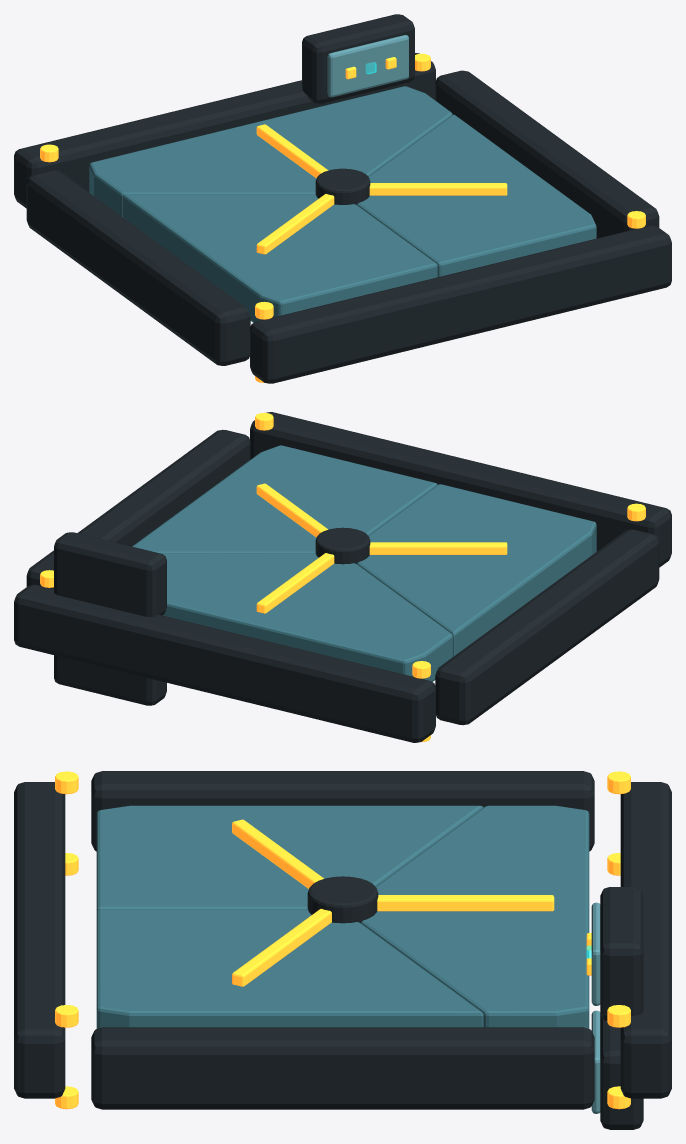
The model's file is 07_square_sliding_tripartite.glb.
3 renders of one model, top to bottom at view 1: azimuth 30°, elevation 25°; view 2: azimuth 150°, elevation 25°; view 3: azimuth 270°, elevation 25°, orthographic. The views are drawn at different scales.
Parts seen in each view (by area): view 1: Frame_North.003, Tripartite_rectangle_Panel_3, Tripartite_rectangle_Panel_2, Tripartite_rectangle_Panel_1, Frame_West.003, Frame_East.003, Frame_South.003, Control_Top_Housing, Control_Top_Face, Tripartite_Top_Accent_Rib_1, Tripartite_Central_Lock, Tripartite_Top_Accent_Rib_3 (+1 smaller); view 2: Frame_South.003, Tripartite_rectangle_Panel_2, Tripartite_rectangle_Panel_3, Tripartite_rectangle_Panel_1, Frame_West.003, Frame_North.003, Frame_East.003, Control_Top_Housing, Control_Bottom_Housing, Tripartite_Top_Accent_Rib_3, Tripartite_Central_Lock, Tripartite_Top_Accent_Rib_2 (+1 smaller); view 3: Frame_East.003, Tripartite_rectangle_Panel_1, Tripartite_rectangle_Panel_2, Tripartite_rectangle_Panel_3, Frame_West.003, Frame_North.003, Frame_South.003, Control_Top_Housing, Tripartite_Top_Accent_Rib_2, Tripartite_Central_Lock, Control_Bottom_Housing, Tripartite_Top_Accent_Rib_1 (+3 smaller).
Part boxes in pixels (left/top/right/bottom): Frame_North.003: left=250, top=225, right=671, bottom=383; Tripartite_rectangle_Panel_3: left=122, top=194, right=437, bottom=322; Tripartite_rectangle_Panel_2: left=89, top=86, right=452, bottom=216; Tripartite_rectangle_Panel_1: left=357, top=114, right=596, bottom=276; Frame_West.003: left=26, top=170, right=250, bottom=365; Frame_East.003: left=435, top=70, right=659, bottom=238; Frame_South.003: left=14, top=53, right=435, bottom=208; Control_Top_Housing: left=302, top=14, right=414, bottom=103; Control_Top_Face: left=327, top=35, right=408, bottom=97; Tripartite_Top_Accent_Rib_1: left=369, top=183, right=507, bottom=195; Tripartite_Central_Lock: left=315, top=168, right=370, bottom=204; Tripartite_Top_Accent_Rib_3: left=256, top=194, right=334, bottom=254; Frame_South.003: left=14, top=584, right=435, bottom=742; Tripartite_rectangle_Panel_2: left=162, top=554, right=452, bottom=681; Tripartite_rectangle_Panel_3: left=357, top=484, right=596, bottom=656; Tripartite_rectangle_Panel_1: left=132, top=445, right=437, bottom=553; Frame_West.003: left=435, top=529, right=659, bottom=725; Frame_North.003: left=250, top=412, right=671, bottom=567; Frame_East.003: left=26, top=429, right=250, bottom=588; Control_Top_Housing: left=54, top=532, right=166, bottom=617; Control_Bottom_Housing: left=54, top=655, right=166, bottom=705; Tripartite_Top_Accent_Rib_3: left=369, top=542, right=507, bottom=554; Tripartite_Central_Lock: left=315, top=527, right=370, bottom=564; Tripartite_Top_Accent_Rib_2: left=256, top=553, right=334, bottom=613; Frame_East.003: left=91, top=1027, right=594, bottom=1109; Tripartite_rectangle_Panel_1: left=96, top=910, right=483, bottom=1028; Tripartite_rectangle_Panel_2: left=360, top=805, right=589, bottom=1028; Tripartite_rectangle_Panel_3: left=96, top=805, right=483, bottom=912; Frame_West.003: left=91, top=771, right=594, bottom=851; Frame_North.003: left=14, top=782, right=65, bottom=1098; Frame_South.003: left=620, top=782, right=671, bottom=1098; Control_Top_Housing: left=600, top=887, right=643, bottom=1020; Tripartite_Top_Accent_Rib_2: left=377, top=895, right=554, bottom=911; Tripartite_Central_Lock: left=307, top=876, right=378, bottom=923; Control_Bottom_Housing: left=600, top=1013, right=643, bottom=1129; Tripartite_Top_Accent_Rib_1: left=232, top=908, right=331, bottom=986.
Size of the model in its own units: 1.22 by 0.38 by 1.22.
